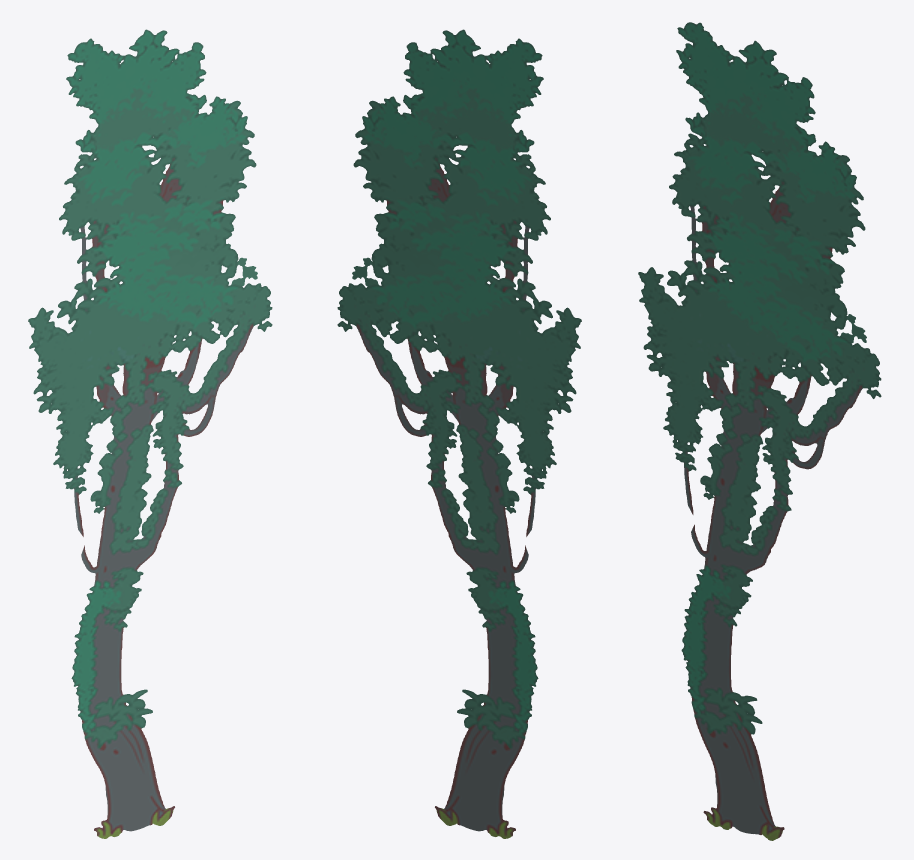
Rendered from Mesh_Adventure_Jungle_Tree_03.fbx.
3 renders of one model, left to right at view 1: azimuth 30°, elevation 25°; view 2: azimuth 150°, elevation 25°; view 3: azimuth 330°, elevation 25°, orthographic.
Parts seen in each view (by area): view 1: Mesh_Adventure_Jungle_Tree_03; view 2: Mesh_Adventure_Jungle_Tree_03; view 3: Mesh_Adventure_Jungle_Tree_03.
Boxes of the visible parts, x1=… form: Mesh_Adventure_Jungle_Tree_03: x1=28, y1=29, x2=272, y2=838; Mesh_Adventure_Jungle_Tree_03: x1=337, y1=29, x2=581, y2=838; Mesh_Adventure_Jungle_Tree_03: x1=638, y1=22, x2=881, y2=840.
Size of the model in its own units: 35.93 by 100 by 0.
